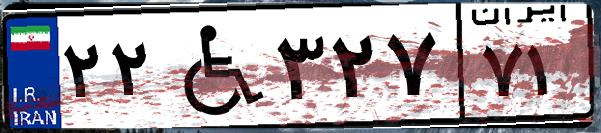1: (525, 38, 570, 115)
2: (330, 28, 385, 110), (57, 26, 110, 100), (110, 28, 158, 98)
3: (270, 28, 330, 110)
7: (385, 28, 445, 110), (475, 38, 525, 113)
ژ (معلولین و جانبازان): (158, 12, 270, 120)
